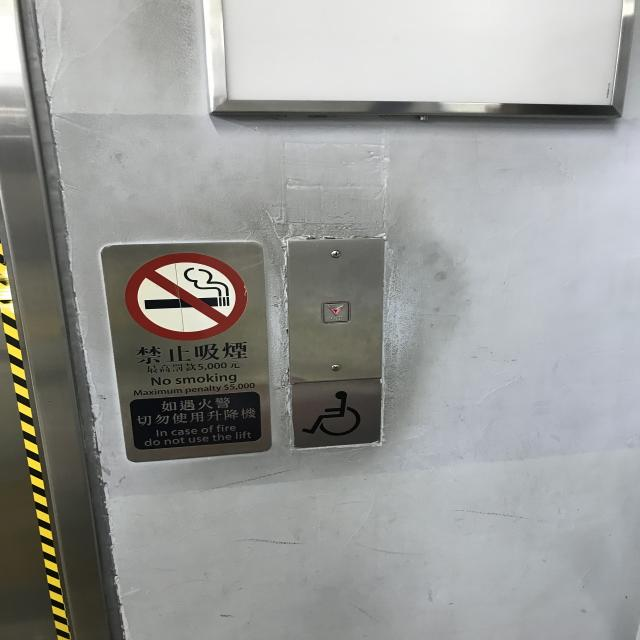down: (320, 300, 352, 324)
